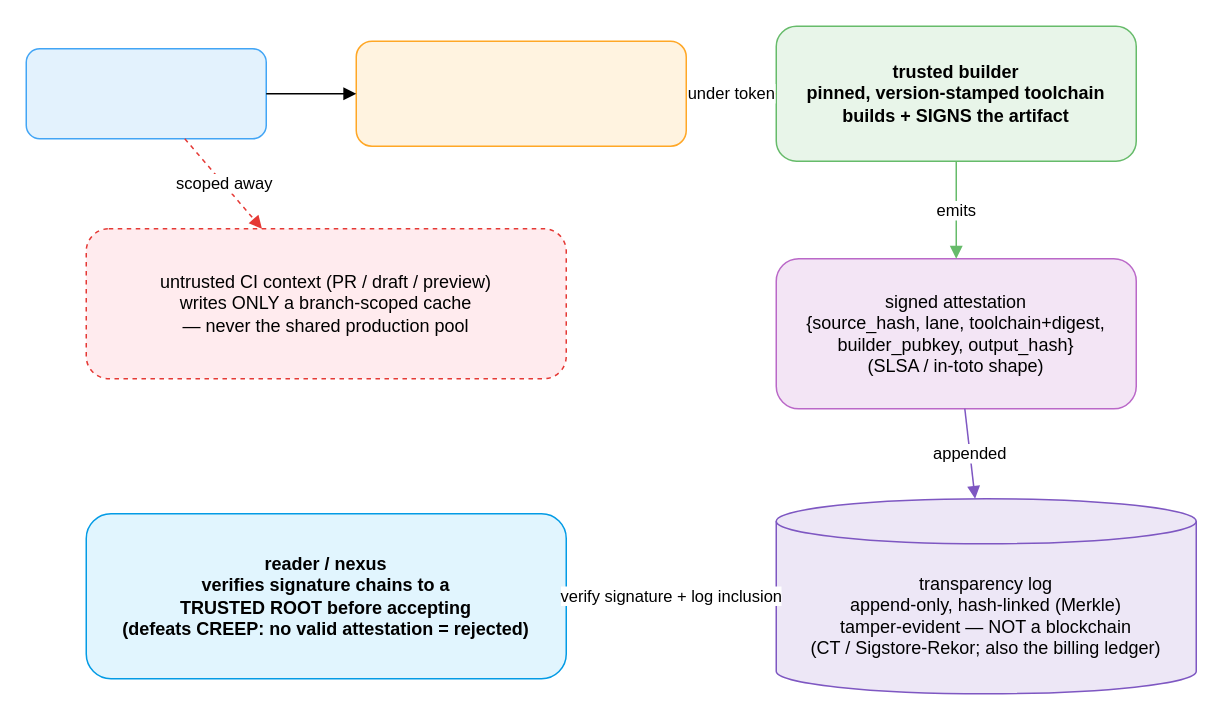
Image size: 1223x720. Some labels were removed from this diagram. Here are the shapes that lost their labels. From the top down, the centre of each, then its label:
the point at 145,93: tenant triggers a compile
the point at 520,93: capability token (signed, scoped — biscuit/macaroon)
